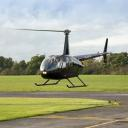helicopter: (7, 29, 111, 90)
